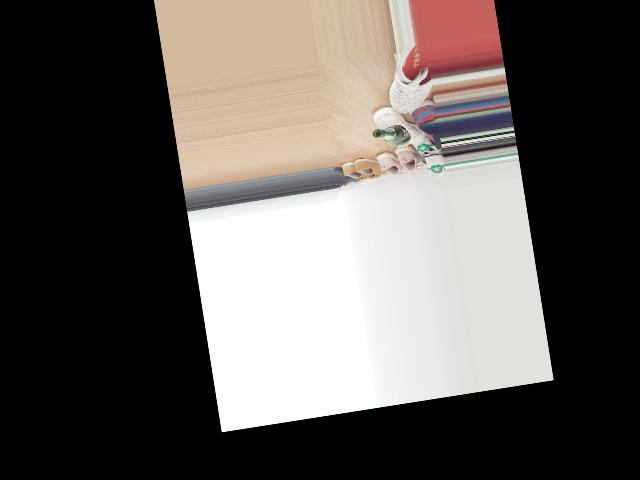beer: (371, 124, 410, 146)
